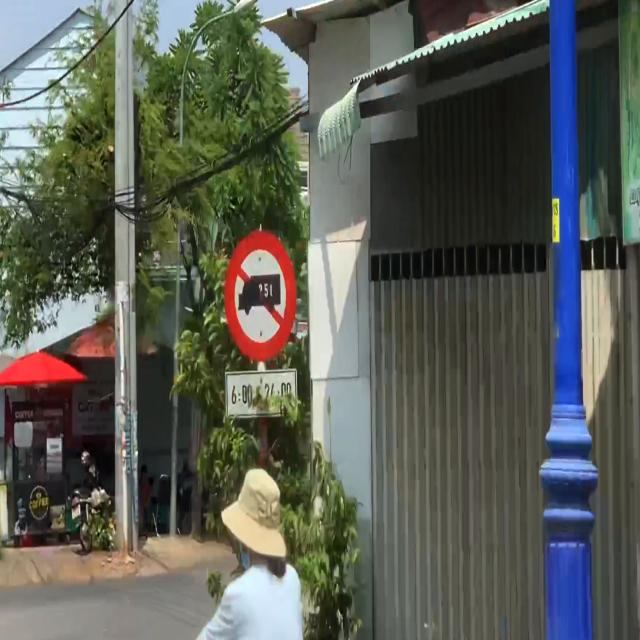Cam con lai: (225, 231, 296, 358)
